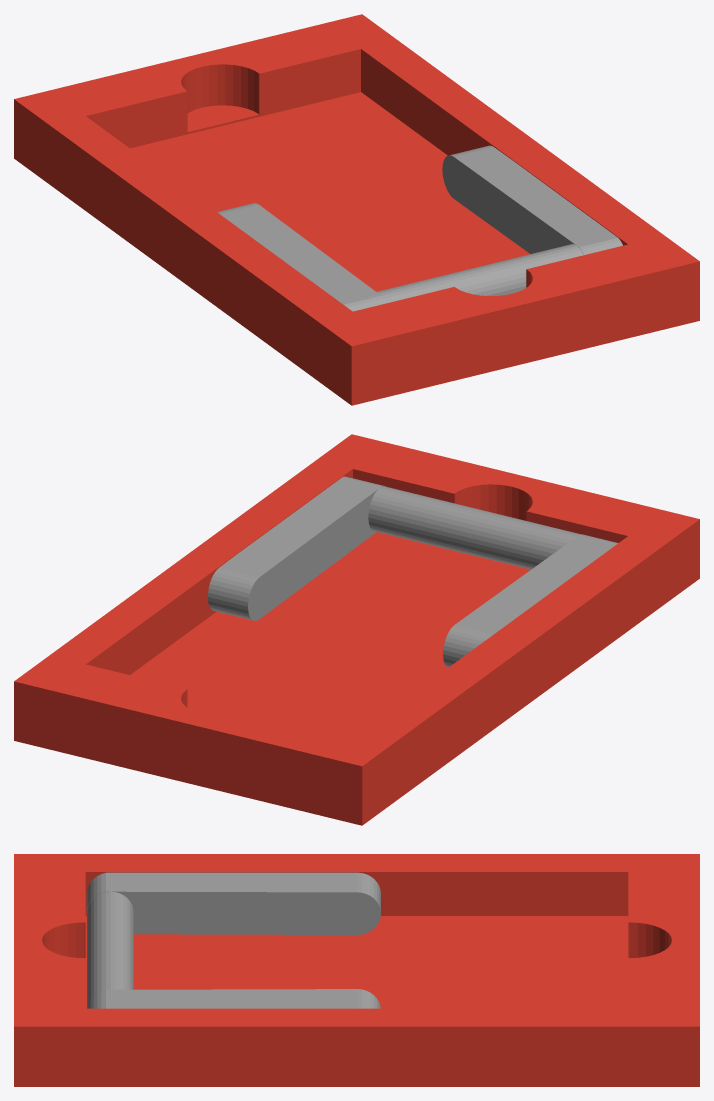
File: props.fbx_lever2.fbx
3 views of the same model, one above another, from view 1: azimuth 30°, elevation 25°; view 2: azimuth 150°, elevation 25°; view 3: azimuth 270°, elevation 25° (orthographic).
Parts seen in each view (by area): view 1: Cube.003, Cylinder; view 2: Cube.003, Cylinder; view 3: Cube.003, Cylinder.
Boxes of the visible parts, x1,y1,x2,y2 form: Cube.003: (14, 14, 699, 405); Cylinder: (217, 145, 622, 311); Cube.003: (14, 434, 699, 825); Cylinder: (208, 476, 618, 667); Cube.003: (14, 854, 699, 1086); Cylinder: (86, 872, 380, 1008).
Bounding box in the file's own units: 0.3377 × 0.0551 × 0.5673.
